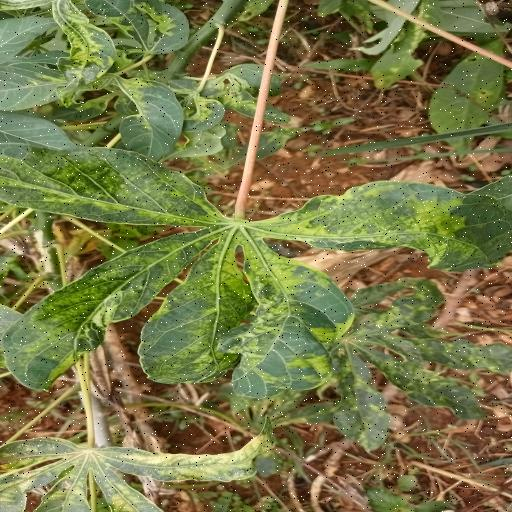Cassava_Mosaic: (0, 139, 512, 408)
